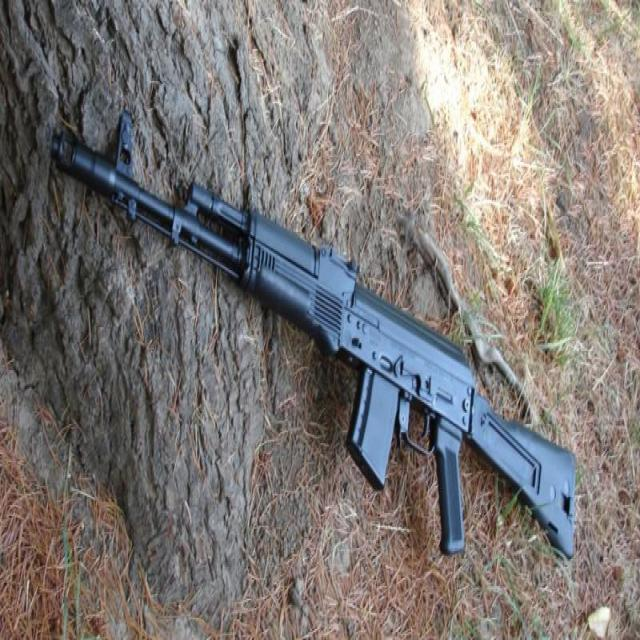weapon: (51, 111, 577, 562)
